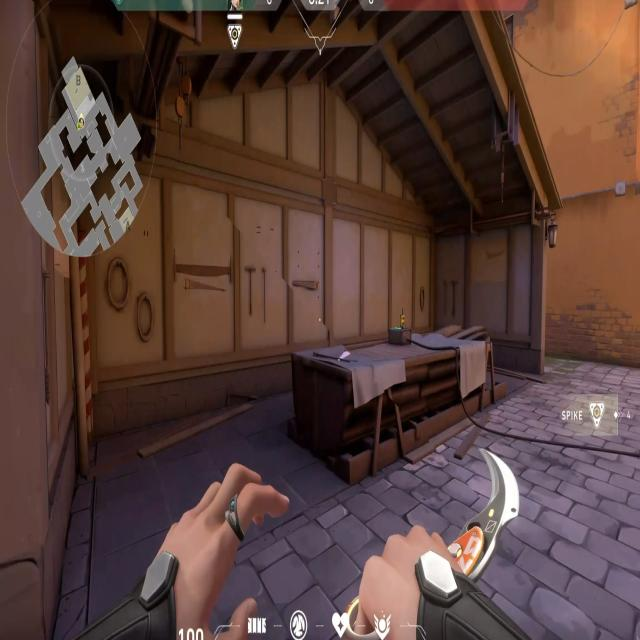B_Garage_Right: (400, 205, 561, 382)
